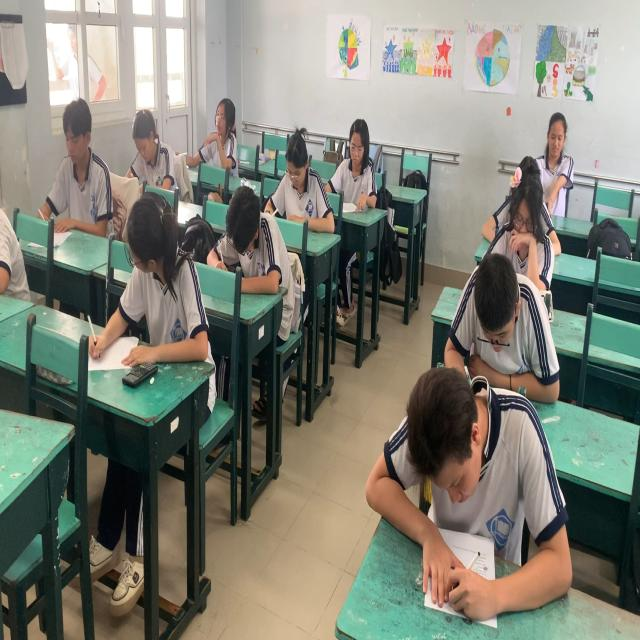cheating: (121, 192, 192, 381)
not_cheating: (385, 361, 542, 551), (455, 251, 542, 374), (50, 99, 108, 222), (212, 180, 276, 270), (503, 157, 550, 247), (124, 101, 170, 188), (278, 126, 320, 216), (200, 92, 245, 171), (342, 119, 372, 208), (546, 113, 567, 164)
